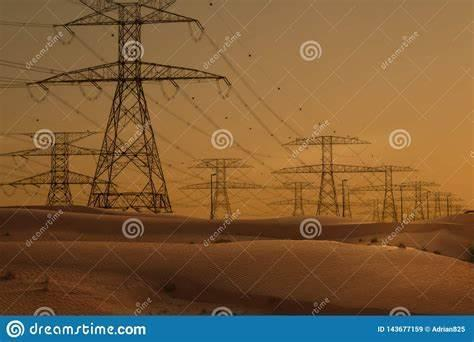power_tower: (38, 2, 227, 207), (282, 130, 376, 232), (7, 126, 104, 212), (184, 154, 267, 223), (368, 162, 419, 227), (265, 177, 322, 221)
